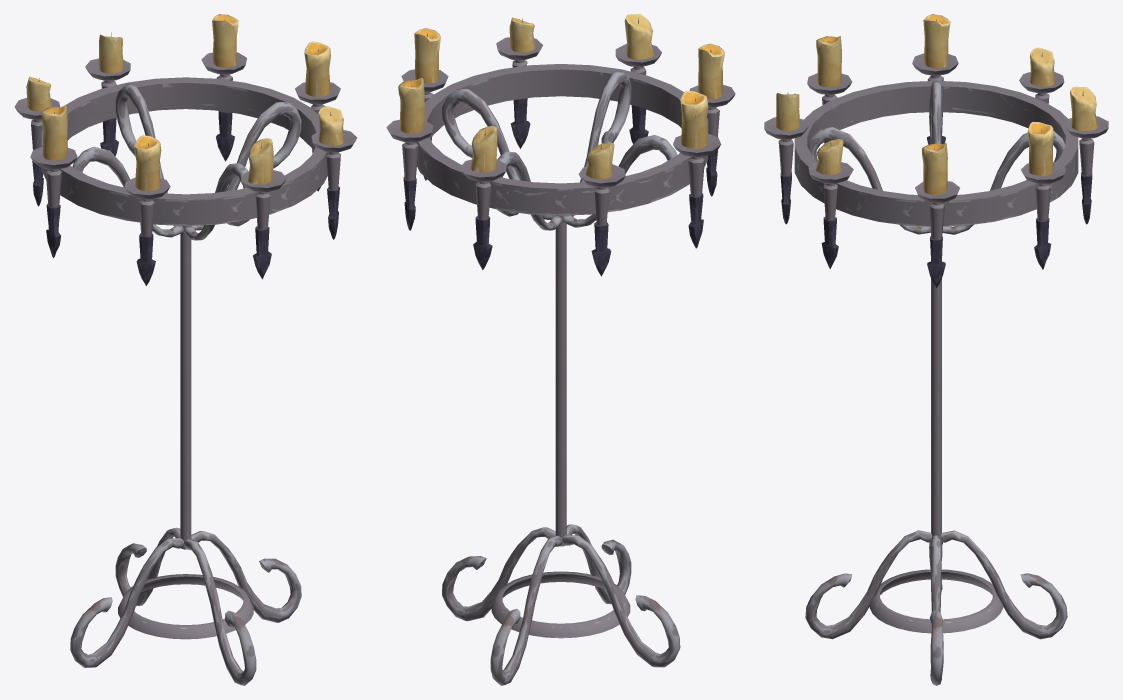
File: CandleStick_Stand.glb
3 views of the same model, side by side, from view 1: azimuth 30°, elevation 25°; view 2: azimuth 150°, elevation 25°; view 3: azimuth 270°, elevation 25° (orthographic). The views are drawn at different scales.
Visible parts, largest first — view 1: CandleStick_Stand; view 2: CandleStick_Stand; view 3: CandleStick_Stand.
Part boxes in pixels (x1,y1,x2,y2): CandleStick_Stand: (14, 14, 357, 685); CandleStick_Stand: (386, 14, 735, 685); CandleStick_Stand: (764, 14, 1108, 685).
Size of the model in its own units: 0.7323 by 1.31 by 0.7313.
2 materials, 2 textured.
